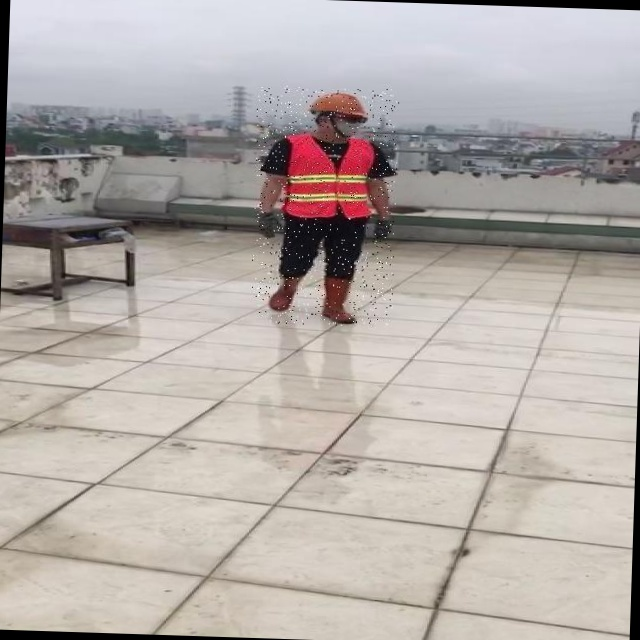boots: (284, 278, 322, 321), (338, 276, 380, 314)
gloves: (361, 206, 411, 255), (244, 214, 292, 256)
helmet: (274, 89, 346, 120)
vest: (272, 136, 364, 219)
